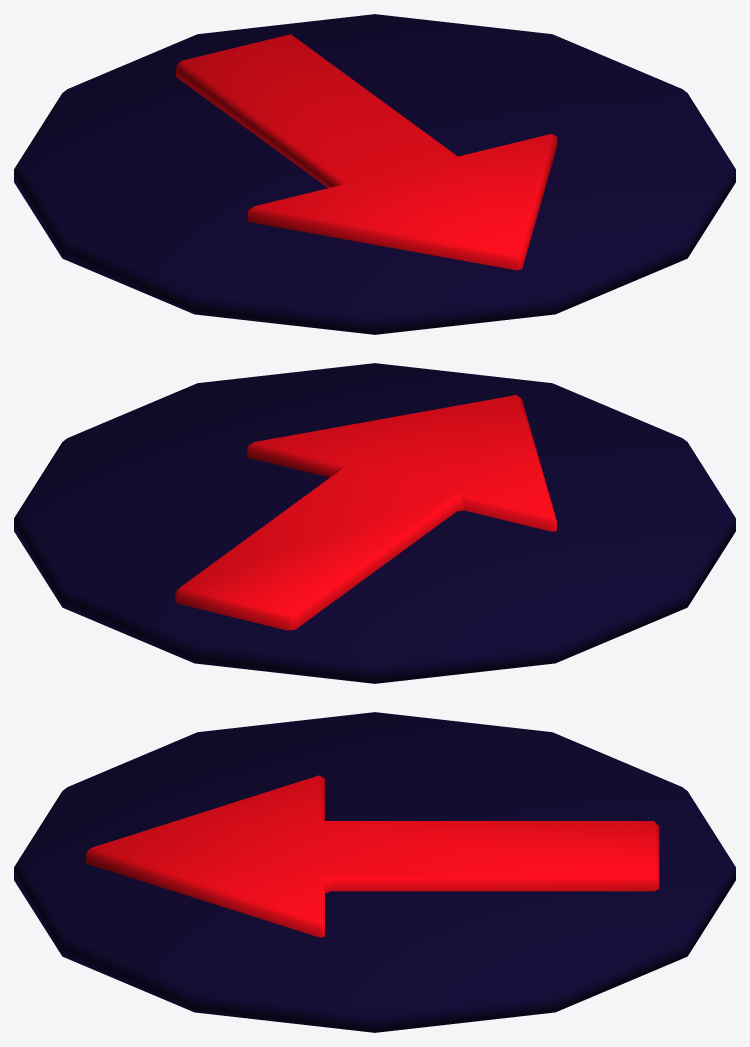
Rendered from force_side.fbx.
The picture shows the model from 3 angles, top to bottom: view 1: azimuth 30°, elevation 25°; view 2: azimuth 150°, elevation 25°; view 3: azimuth 270°, elevation 25°; orthographic projection.
Visible parts, largest first — view 1: force_side; view 2: force_side; view 3: force_side.
Part boxes in pixels (x1,y1,x2,y2): force_side: (14,14,735,334); force_side: (14,363,735,683); force_side: (14,712,735,1032).
Bounding box in the file's own units: 340 × 16.97 × 340.
